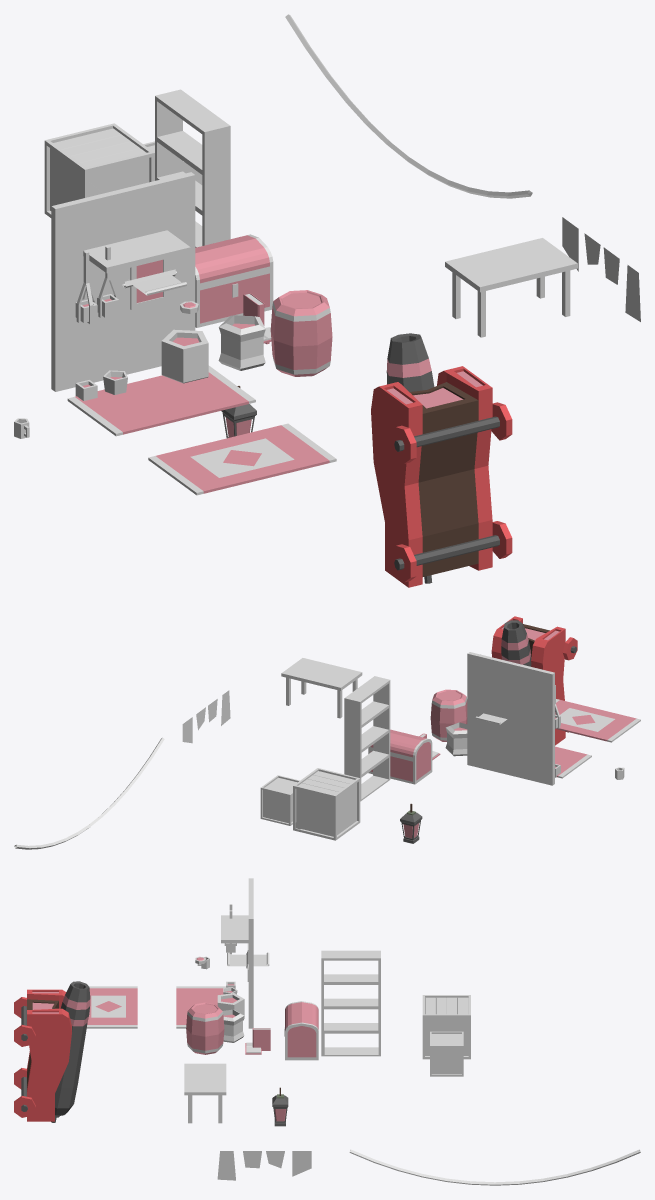
Rendered from Props.fbx.
3 renders of one model, top to bottom at view 1: azimuth 30°, elevation 25°; view 2: azimuth 150°, elevation 25°; view 3: azimuth 270°, elevation 25°, orthographic. The views are drawn at different scales.
Visible parts, largest first — view 1: Cannon, Wall Simple, Shelf 2, Rug 2, Large Crate, Rug 1, Chest, Simple Desk, Barrel, Shelf 1, Pot 1, Pot 2 (+4 smaller); view 2: Wall Simple, Shelf 2, Large Crate, Cannon, Rug 2, Chest, Simple Desk, Small Crate, Barrel, Laundry Line, Pot 2, Rug 1 (+1 smaller); view 3: Cannon, Shelf 2, Large Crate, Rug 2, Chest, Barrel, Simple Desk, Small Crate, Laundry Line, Rug 1, Wall Simple, Shelf 1 (+5 smaller).
Boxes of the visible parts, box(x1,y1,x2,y2) form: Cannon: box(371, 333, 512, 587); Wall Simple: box(51, 172, 195, 391); Shelf 2: box(155, 89, 230, 247); Rug 2: box(148, 423, 336, 495); Large Crate: box(44, 123, 154, 217); Rug 1: box(67, 365, 255, 436); Chest: box(195, 234, 273, 327); Simple Desk: box(445, 238, 577, 337); Barrel: box(270, 290, 332, 376); Shelf 1: box(83, 230, 190, 273); Pot 1: box(161, 329, 208, 383); Pot 2: box(218, 315, 265, 370); Wall Simple: box(467, 652, 554, 785); Shelf 2: box(344, 676, 390, 801); Large Crate: box(293, 768, 360, 840); Cannon: box(491, 616, 577, 745); Rug 2: box(555, 699, 640, 742); Chest: box(368, 729, 432, 784); Simple Desk: box(281, 658, 362, 718); Small Crate: box(260, 775, 299, 825); Barrel: box(430, 689, 467, 741); Laundry Line: box(14, 737, 164, 849); Pot 2: box(445, 722, 467, 756); Rug 1: box(555, 746, 591, 778); Cannon: box(14, 981, 90, 1122); Shelf 2: box(321, 950, 380, 1056); Large Crate: box(422, 995, 470, 1059); Rug 2: box(86, 986, 137, 1028); Chest: box(284, 1001, 318, 1060); Barrel: box(186, 1002, 224, 1054); Simple Desk: box(184, 1063, 226, 1123); Small Crate: box(430, 1031, 463, 1076); Laundry Line: box(349, 1149, 640, 1185); Rug 1: box(176, 986, 225, 1028); Wall Simple: box(248, 878, 253, 1028); Shelf 1: box(221, 915, 248, 943).
Bounding box in the file's own units: 914 × 421 × 1298.
